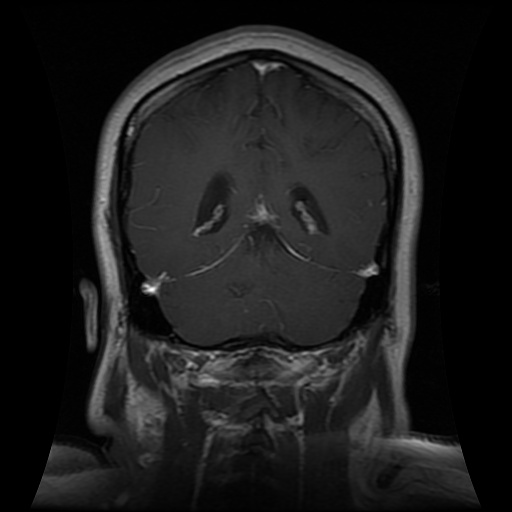glioma: (238, 191, 291, 259)
